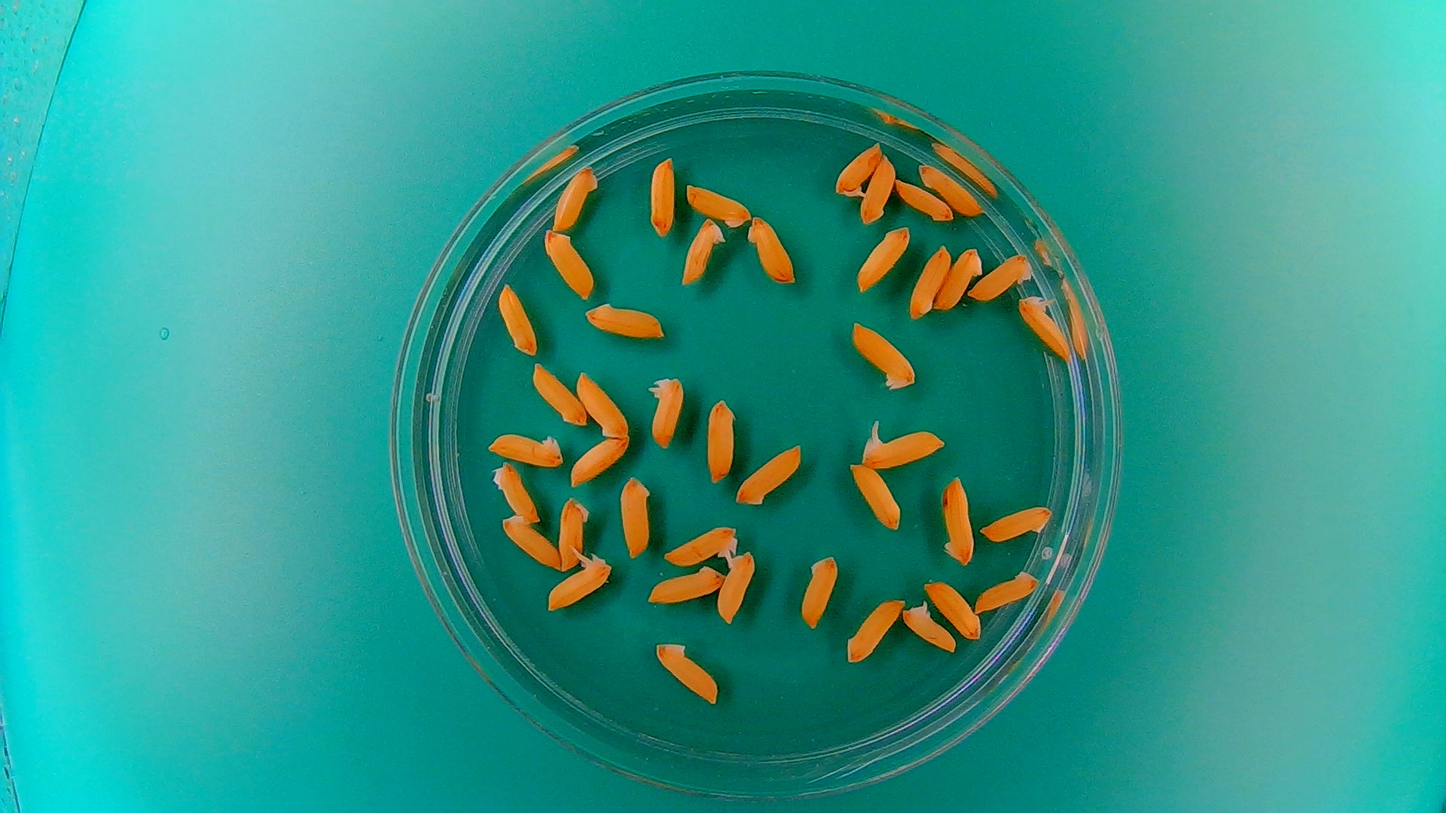no: (849, 316, 919, 390), (731, 440, 806, 507), (651, 637, 721, 707), (844, 592, 905, 664), (574, 366, 631, 440), (847, 459, 904, 531), (529, 358, 588, 427), (923, 575, 984, 640), (854, 224, 911, 293), (541, 229, 594, 302), (969, 568, 1046, 617), (746, 214, 798, 286), (917, 160, 984, 215), (644, 563, 728, 606), (498, 513, 559, 572), (679, 214, 728, 287), (939, 473, 976, 568), (566, 434, 631, 488), (966, 251, 1033, 303), (906, 242, 951, 319), (482, 428, 566, 469), (682, 180, 752, 229), (551, 162, 599, 233), (934, 245, 984, 313), (489, 460, 541, 525), (583, 300, 667, 340), (715, 547, 757, 626), (495, 281, 538, 358), (979, 501, 1054, 545), (798, 552, 839, 632), (645, 371, 686, 449), (618, 471, 653, 559), (703, 395, 737, 483), (645, 152, 677, 238), (892, 177, 952, 222), (556, 492, 589, 573), (859, 151, 895, 224)
yes: (543, 550, 615, 615), (1016, 291, 1073, 363), (661, 520, 741, 568), (856, 429, 947, 470), (899, 598, 958, 653), (832, 139, 883, 197)
